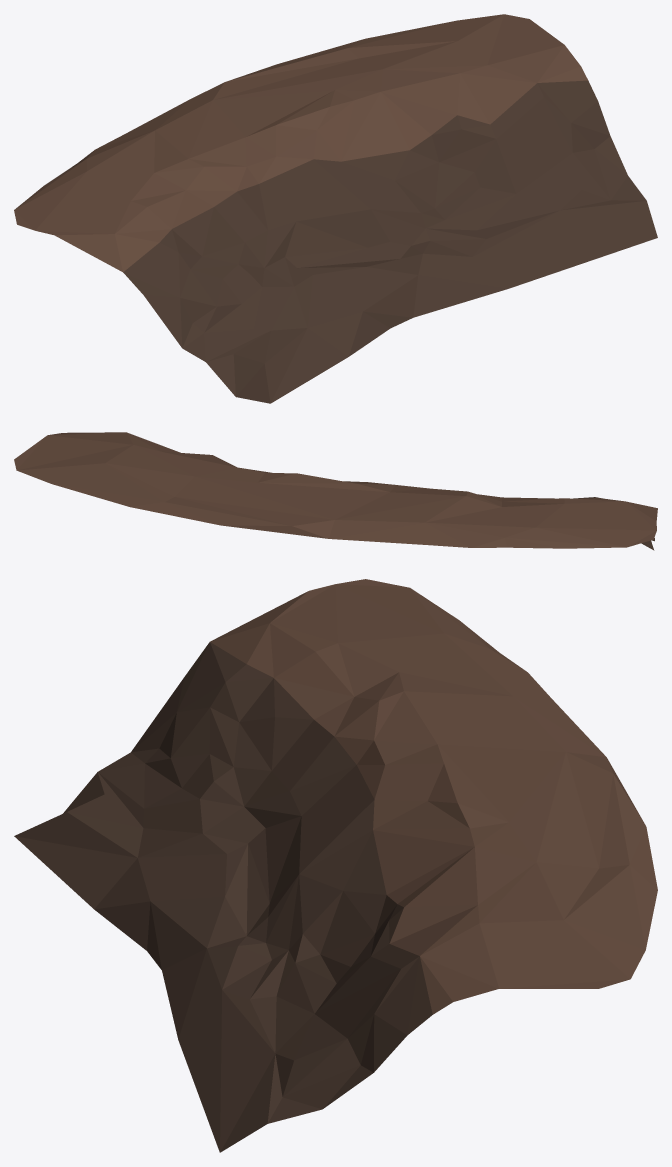
File: synty-terrain-riverside-corner-01.gltf
3 views of the same model, one above another, from view 1: azimuth 30°, elevation 25°; view 2: azimuth 150°, elevation 25°; view 3: azimuth 270°, elevation 25° (orthographic). The views are drawn at different scales.
Visible parts, largest first — view 1: SM_Terrain_RiverSide_Corner_01; view 2: SM_Terrain_RiverSide_Corner_01; view 3: SM_Terrain_RiverSide_Corner_01.
Boxes of the visible parts, x1=… form: SM_Terrain_RiverSide_Corner_01: x1=14, y1=14, x2=657, y2=403; SM_Terrain_RiverSide_Corner_01: x1=14, y1=432, x2=657, y2=550; SM_Terrain_RiverSide_Corner_01: x1=14, y1=579, x2=657, y2=1152.
Size of the model in its own units: 9.13 by 1.9 by 6.05.
1 material, 1 textured.
